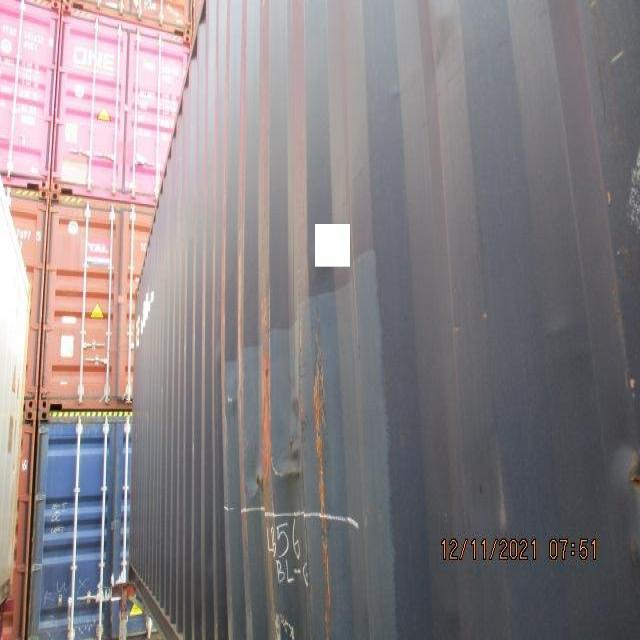Dent: (213, 365, 376, 584)
